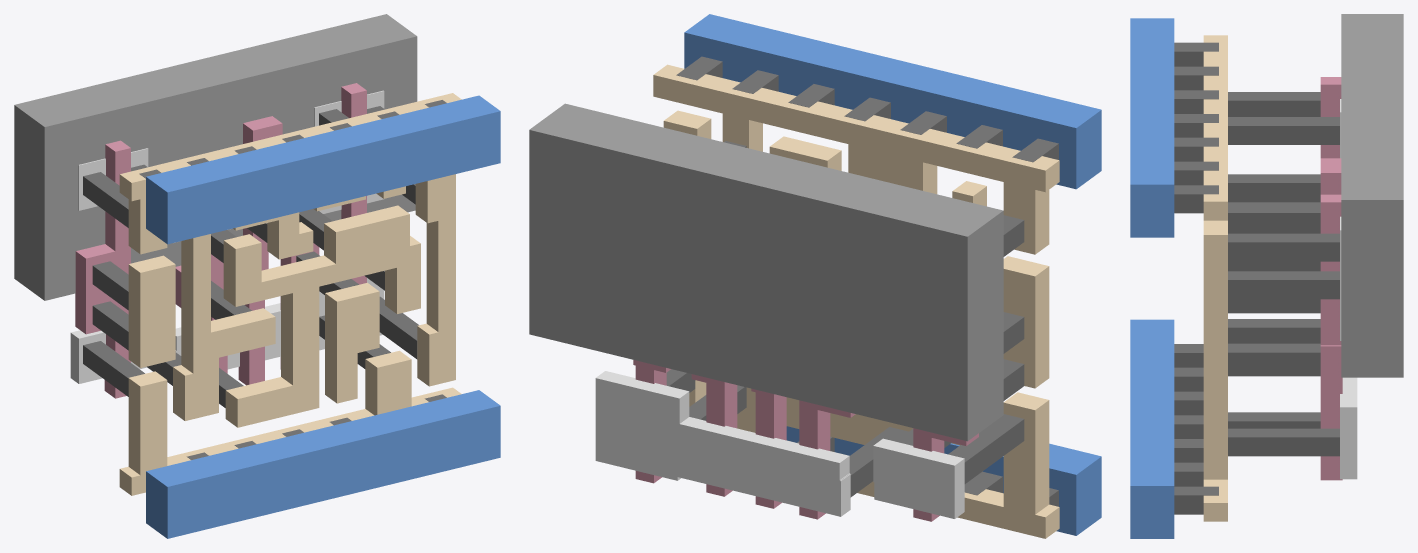
Rendered from sky130_fd_sc_hd__and3b_1.gds.gltf.
3 renders of one model, left to right at view 1: azimuth 30°, elevation 25°; view 2: azimuth 150°, elevation 25°; view 3: azimuth 270°, elevation 25°, orthographic. The views are drawn at different scales.
Parts seen in each view (by area): view 1: sky130_fd_sc_hd__and3b_1_li1, sky130_fd_sc_hd__and3b_1_met1, sky130_fd_sc_hd__and3b_1_nwell, sky130_fd_sc_hd__and3b_1_licon, sky130_fd_sc_hd__and3b_1_poly, sky130_fd_sc_hd__and3b_1_diff, sky130_fd_sc_hd__and3b_1_mcon; view 2: sky130_fd_sc_hd__and3b_1_nwell, sky130_fd_sc_hd__and3b_1_li1, sky130_fd_sc_hd__and3b_1_met1, sky130_fd_sc_hd__and3b_1_diff, sky130_fd_sc_hd__and3b_1_licon, sky130_fd_sc_hd__and3b_1_poly, sky130_fd_sc_hd__and3b_1_mcon; view 3: sky130_fd_sc_hd__and3b_1_licon, sky130_fd_sc_hd__and3b_1_nwell, sky130_fd_sc_hd__and3b_1_met1, sky130_fd_sc_hd__and3b_1_mcon, sky130_fd_sc_hd__and3b_1_li1, sky130_fd_sc_hd__and3b_1_poly, sky130_fd_sc_hd__and3b_1_diff.
Boxes of the visible parts, x1,y1,x2,y2 form: sky130_fd_sc_hd__and3b_1_li1: (119, 93, 461, 495); sky130_fd_sc_hd__and3b_1_met1: (146, 95, 500, 538); sky130_fd_sc_hd__and3b_1_nwell: (14, 14, 417, 300); sky130_fd_sc_hd__and3b_1_licon: (83, 106, 418, 407); sky130_fd_sc_hd__and3b_1_poly: (75, 83, 366, 398); sky130_fd_sc_hd__and3b_1_diff: (70, 90, 384, 383); sky130_fd_sc_hd__and3b_1_mcon: (139, 100, 446, 459); sky130_fd_sc_hd__and3b_1_nwell: (529, 103, 1003, 441); sky130_fd_sc_hd__and3b_1_li1: (653, 64, 1059, 538); sky130_fd_sc_hd__and3b_1_met1: (684, 14, 1101, 535); sky130_fd_sc_hd__and3b_1_diff: (595, 371, 964, 518); sky130_fd_sc_hd__and3b_1_licon: (666, 141, 1024, 497); sky130_fd_sc_hd__and3b_1_poly: (633, 360, 978, 521); sky130_fd_sc_hd__and3b_1_mcon: (676, 56, 1058, 506); sky130_fd_sc_hd__and3b_1_licon: (1228, 92, 1339, 456); sky130_fd_sc_hd__and3b_1_nwell: (1341, 14, 1403, 377); sky130_fd_sc_hd__and3b_1_met1: (1130, 18, 1174, 538); sky130_fd_sc_hd__and3b_1_mcon: (1174, 42, 1218, 514); sky130_fd_sc_hd__and3b_1_li1: (1203, 35, 1227, 521); sky130_fd_sc_hd__and3b_1_poly: (1320, 77, 1342, 480); sky130_fd_sc_hd__and3b_1_diff: (1340, 99, 1357, 479).
Bounding box in the file's own units: 3.6 × 3.2 × 2.24.
